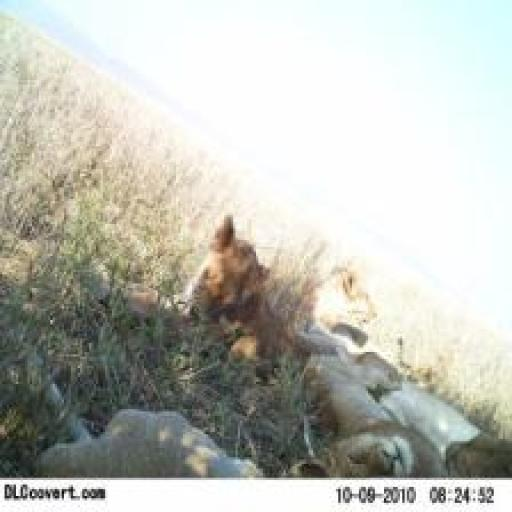lion: (114, 208, 284, 373), (313, 233, 382, 372)
